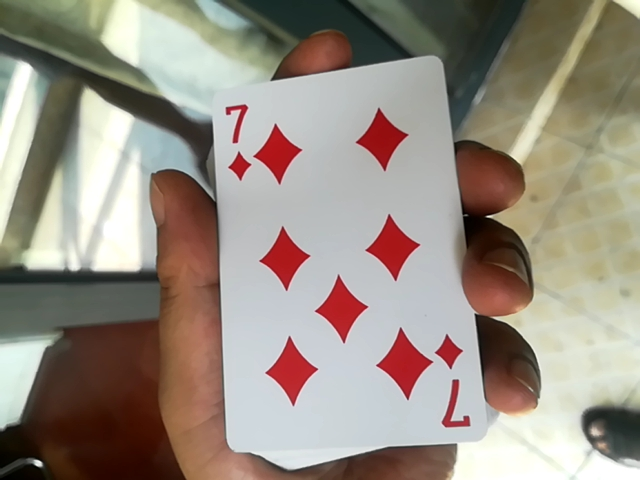fk 7: (197, 48, 461, 456)
